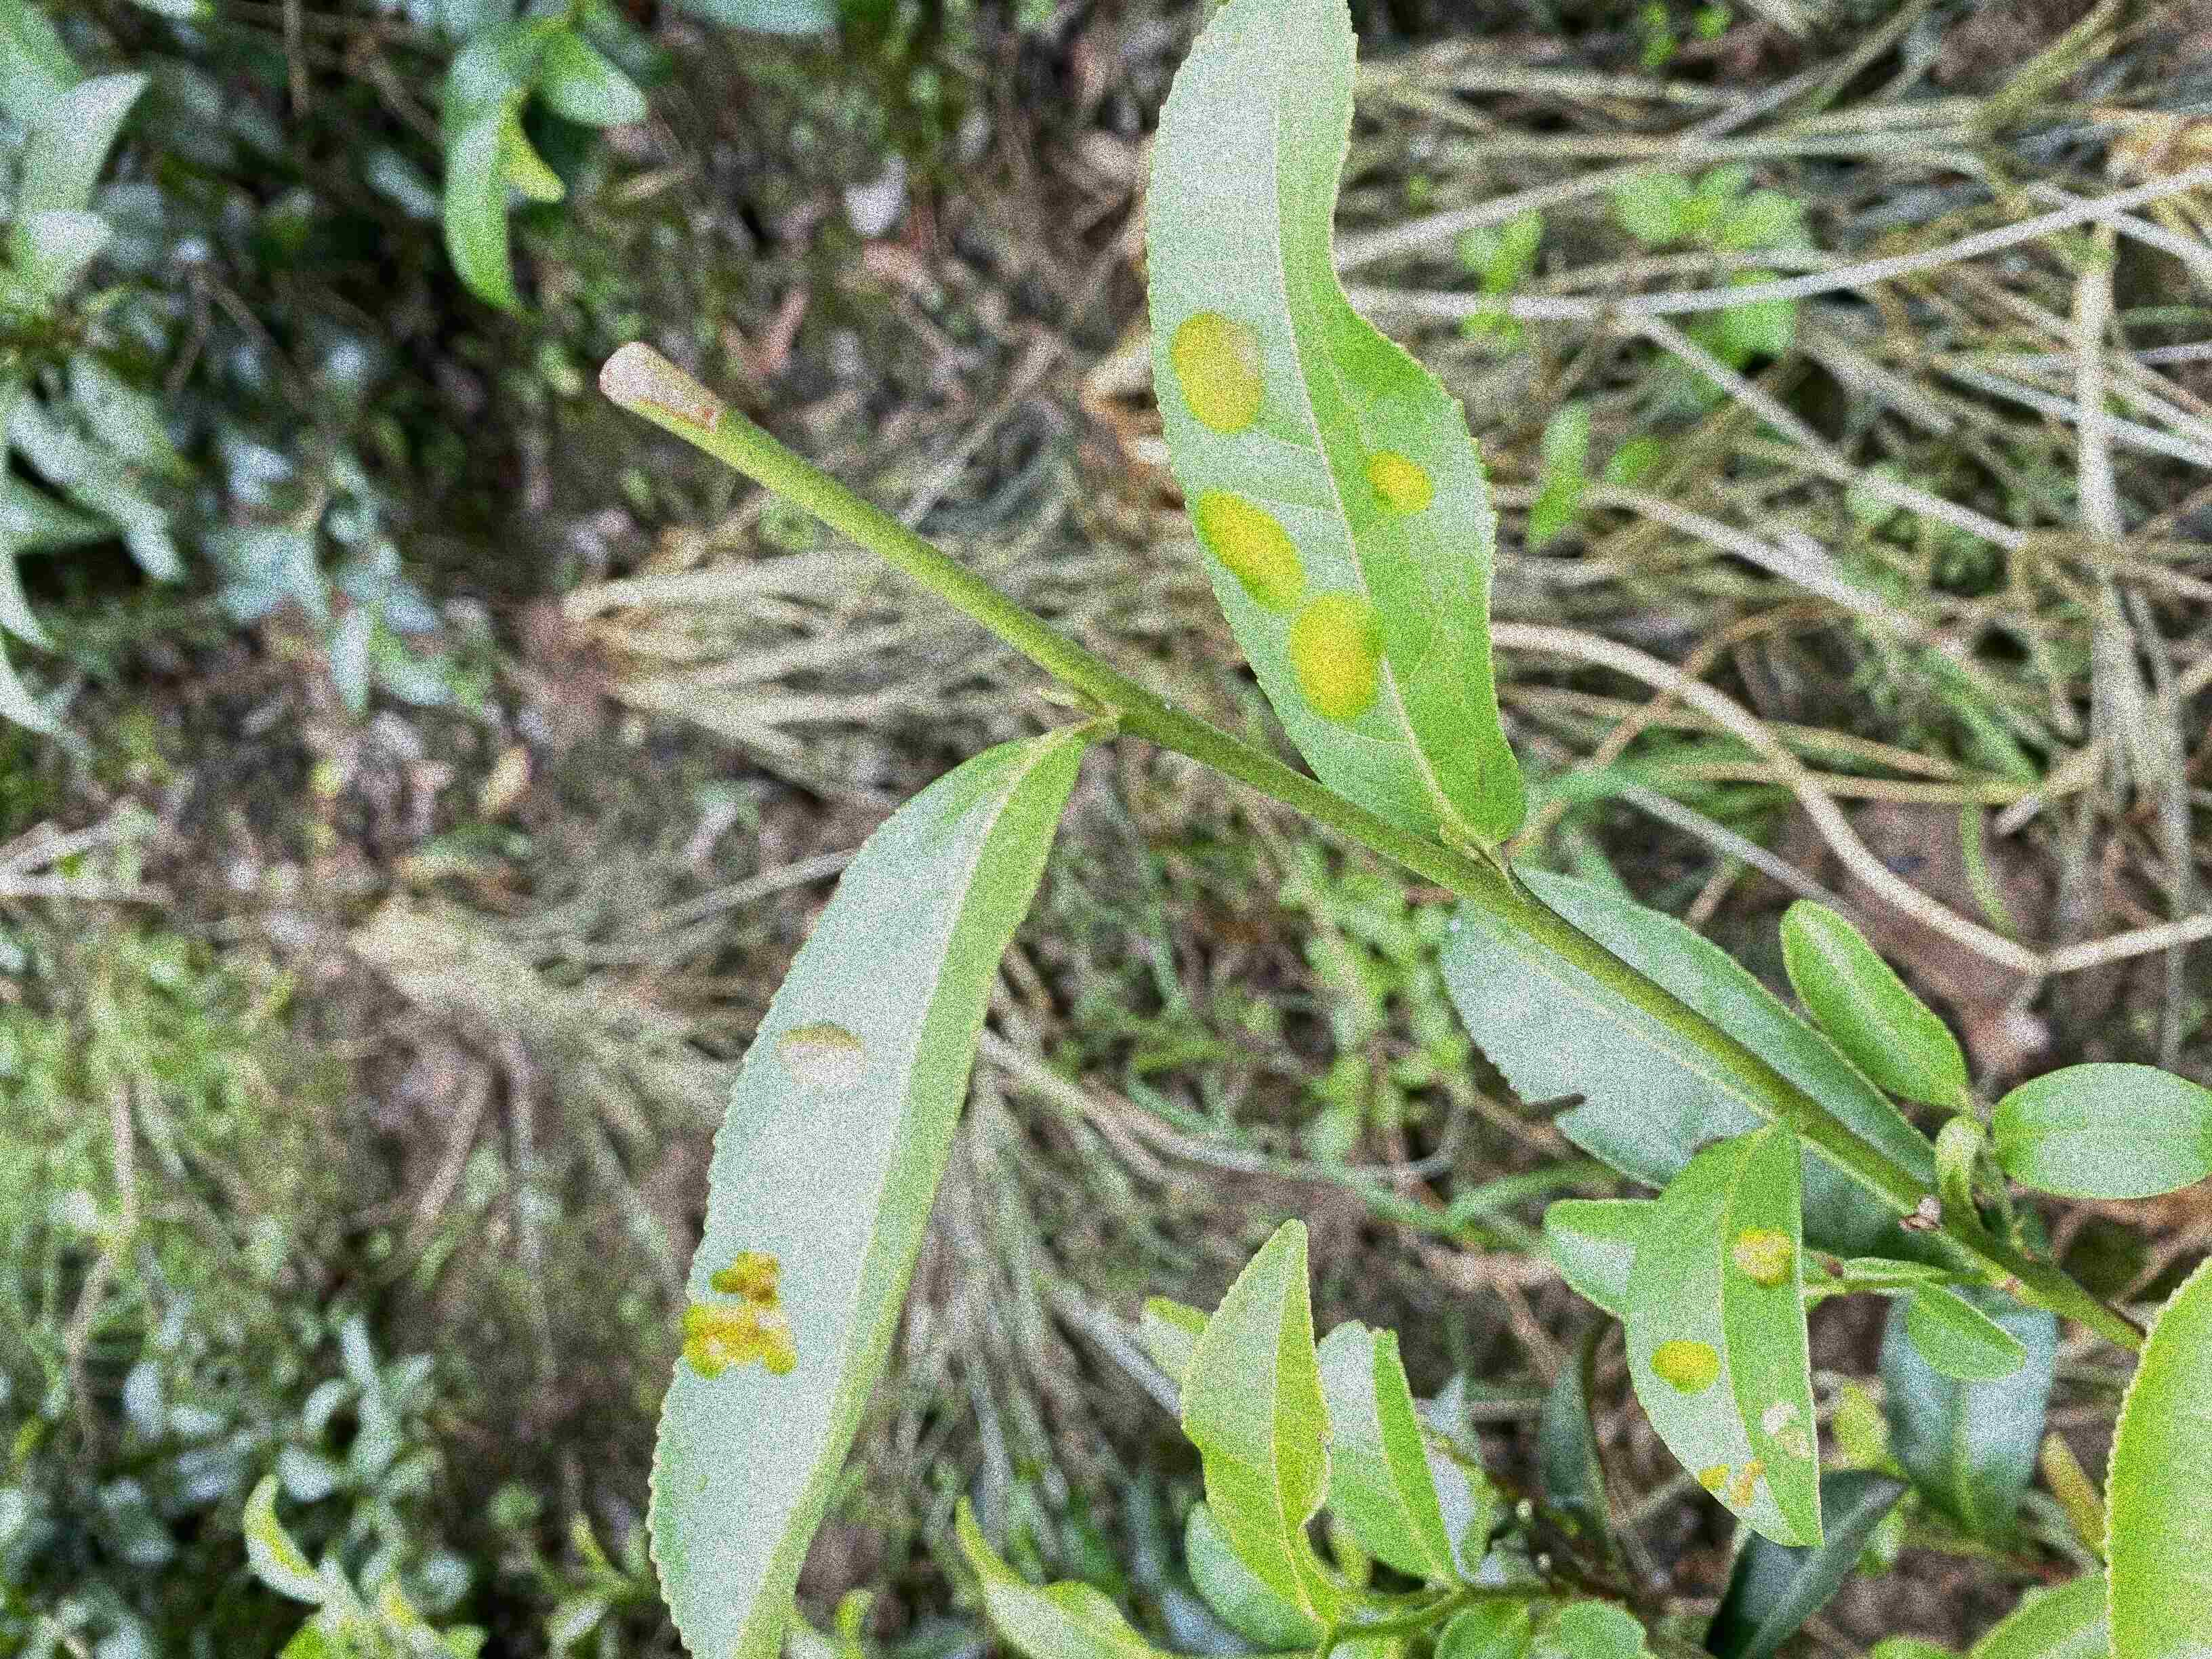chabing_high: (639, 730, 1085, 1657), (1150, 3, 1531, 849), (1625, 1122, 1829, 1549)
chihuo_low: (1440, 868, 1691, 1188), (1320, 1317, 1467, 1577)
healthy: (1181, 1220, 1338, 1624), (1778, 897, 1965, 1108), (1989, 1060, 2212, 1204), (1907, 1277, 2029, 1380)
